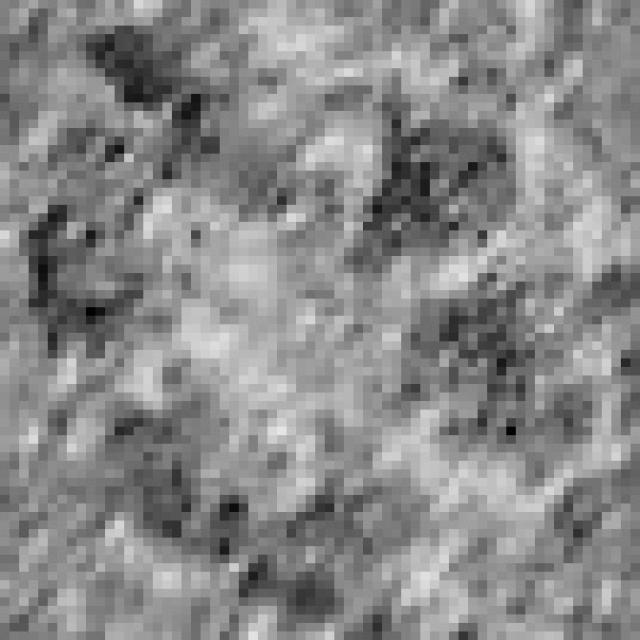inner: (197, 222, 413, 440)
lobe: (71, 13, 342, 230), (54, 361, 294, 571), (244, 428, 453, 633), (10, 125, 187, 362), (407, 267, 600, 483), (347, 92, 522, 274)
outer: (1, 0, 630, 640)
